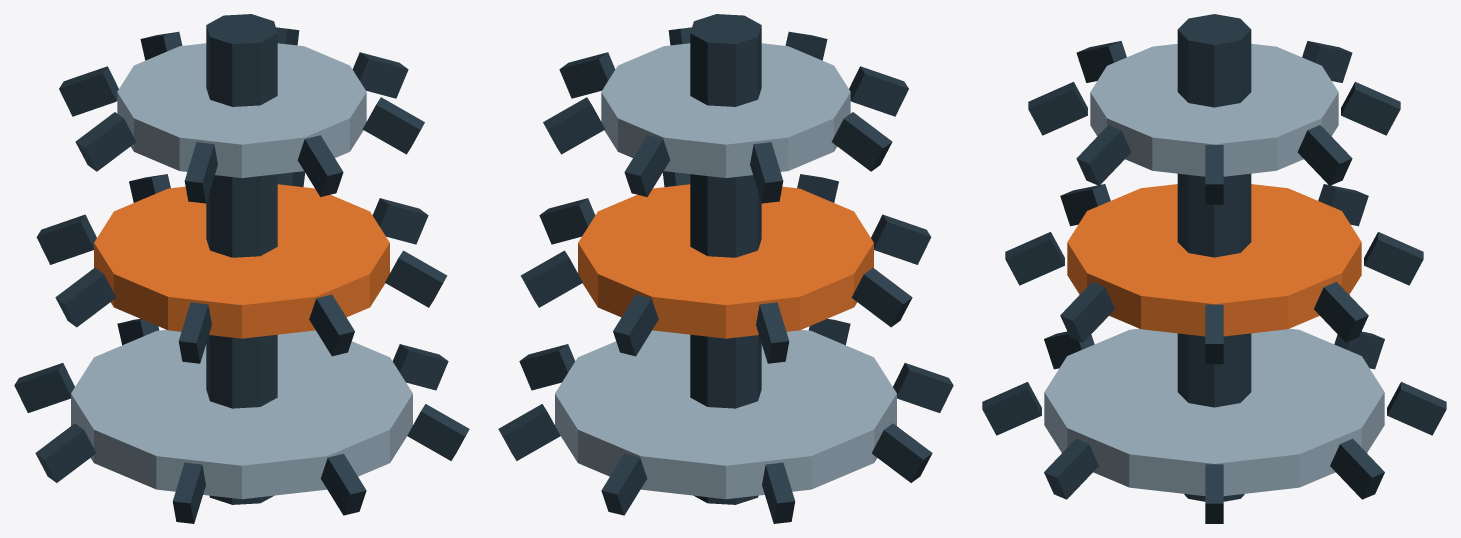
Rendered from turbine_stack.glb.
3 renders of one model, left to right at view 1: azimuth 30°, elevation 25°; view 2: azimuth 150°, elevation 25°; view 3: azimuth 270°, elevation 25°, orthographic.
Parts seen in each view (by area): view 1: turbine_stack; view 2: turbine_stack; view 3: turbine_stack.
Boxes of the visible parts, bbox=[...] form: turbine_stack: bbox=[14, 14, 469, 523]; turbine_stack: bbox=[498, 14, 953, 523]; turbine_stack: bbox=[982, 14, 1446, 523].
Size of the model in its own units: 2.02 by 2.2 by 2.02.
